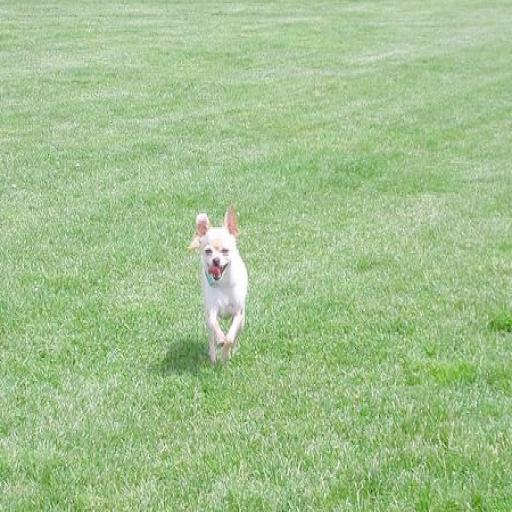dog_face: (191, 203, 237, 280)
